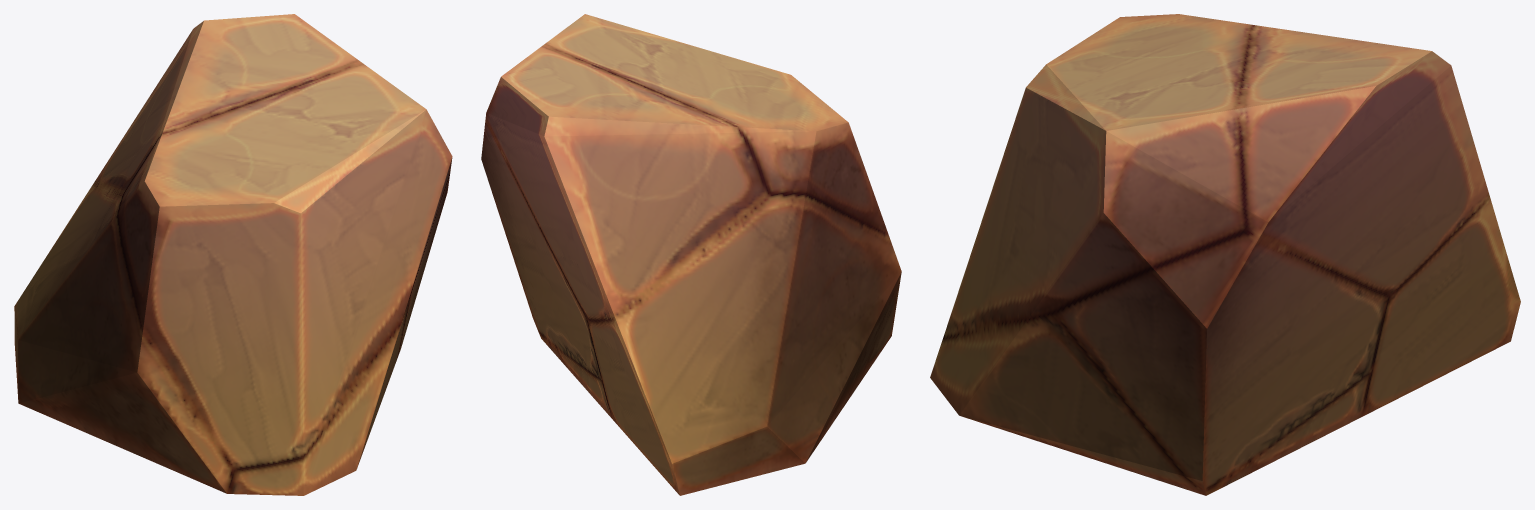
Rendered from rocks_2.fbx.
3 views of the same model, side by side, from view 1: azimuth 30°, elevation 25°; view 2: azimuth 150°, elevation 25°; view 3: azimuth 270°, elevation 25° (orthographic). The views are drawn at different scales.
Parts seen in each view (by area): view 1: Cube.003_cell.050; view 2: Cube.003_cell.050; view 3: Cube.003_cell.050.
Part boxes in pixels (x1,y1,x2,y2): Cube.003_cell.050: [14, 14, 452, 495]; Cube.003_cell.050: [481, 14, 901, 495]; Cube.003_cell.050: [930, 14, 1520, 495].
Size of the model in its own units: 165 by 133 by 180.
